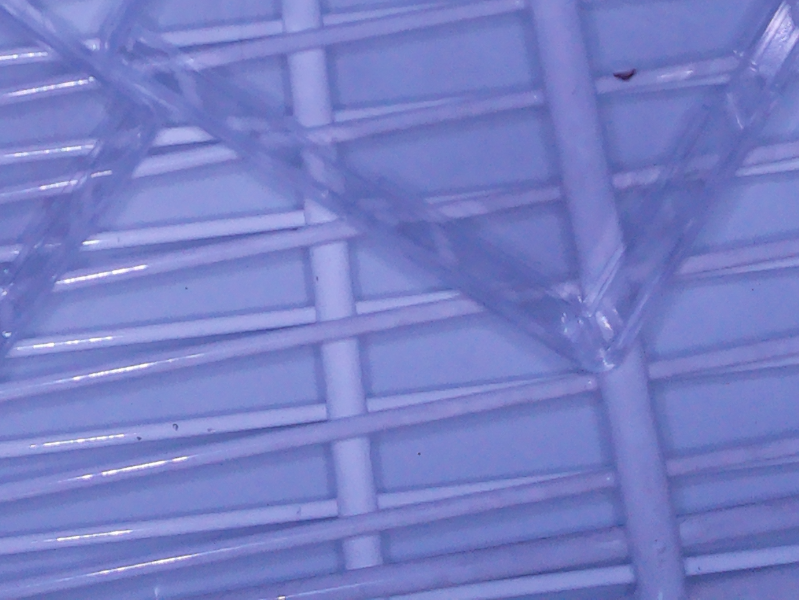plate: (97, 1, 799, 376), (1, 1, 160, 365)
